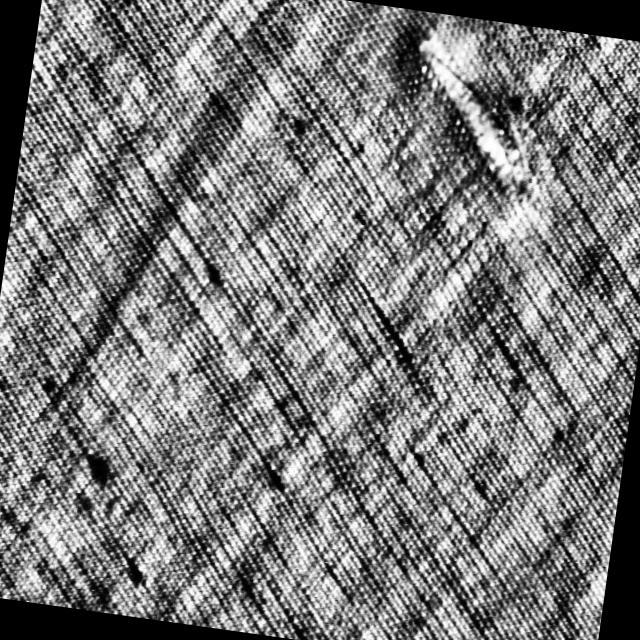cut: (390, 24, 560, 206)
